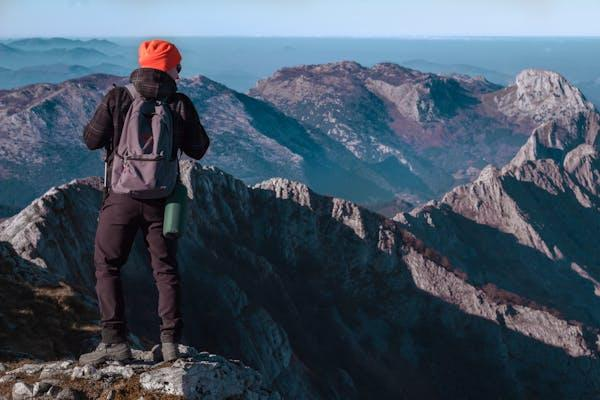Human: (75, 40, 190, 372)
